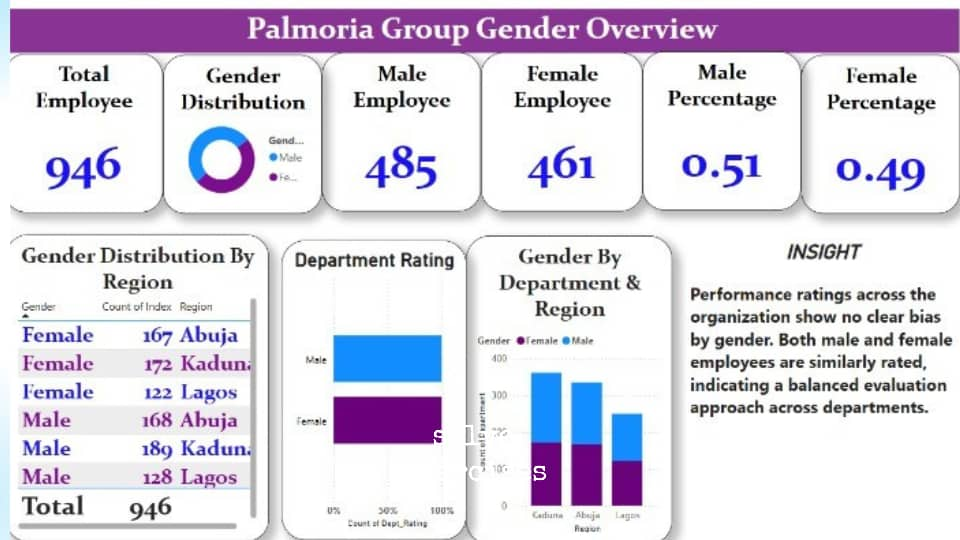

The dashboard page shown, as its layout file describes it:
{"tool":"powerbi","page":{"name":"Gender Overview","canvas":[1280,720],"ordinal":0},"visuals":[{"type":"columnChart","title":"Gender  By Department & Region","fields":{"Category":["Palmoria Employee Overview.Region"],"Series":["Palmoria Employee Overview.Gender"],"Y":["Palmoria Employee Overview.Department"]},"box":[621.6,305.9,260.8,390.2],"z":0},{"type":"textbox","title":"Palmoria Group Gender Overview","box":[36.5,18.2,1209.1,56.7],"z":1000},{"type":"card","title":"Total Employee","fields":{"Values":["Palmoria.Total Employee"]},"box":[37.7,75.5,200.5,200.5],"z":2000},{"type":"card","title":"Male Employee","fields":{"Values":["Palmoria.Measure 2"]},"box":[439.5,74.9,200.5,200.5],"z":3000},{"type":"card","title":"Female Percentage","fields":{"Values":["Palmoria.Female%"]},"box":[1044.4,77.4,200.5,200.5],"z":4000},{"type":"card","title":"Female Employee","fields":{"Values":["Palmoria.Female Emplloyee"]},"box":[640,74.9,204.6,200.5],"z":5000},{"type":"card","title":"Male Percentage","fields":{"Values":["Palmoria.Male%"]},"box":[843.9,73.5,200.5,200.5],"z":6000},{"type":"hundredPercentStackedBarChart","title":"Department Rating","fields":{"Category":["Palmoria Employee Overview.Gender"],"Y":["Palmoria Employee Overview.Dept_Rating"]},"box":[388.2,311.8,233.3,378.4],"z":7000},{"type":"tableEx","title":"Gender Distribution By Region","fields":{"Values":["Palmoria Employee Overview.Gender","Palmoria Employee Overview.Index","Palmoria Employee Overview.Region"]},"box":[39.2,303.9,333.3,388.2],"z":8000},{"type":"donutChart","title":"Gender Distribution","fields":{"Category":["Palmoria Employee Overview.Gender"],"Y":["Palmoria Employee Overview.Name"]},"box":[239,77,200.5,200.5],"z":9000},{"type":"textbox","title":"INSIGHT","box":[900,311.8,345.1,386.3],"z":10000}]}

Visuals, with their boxes in screenshot pixels (x1, y1, x2, y2), scaled from the page's 1280x720 canvas onto the 960x540 screenshot:
"Gender  By Department & Region" columnChart: BBox(466, 229, 662, 522)
"Palmoria Group Gender Overview" textbox: BBox(27, 14, 934, 56)
"Total Employee" card: BBox(28, 57, 179, 207)
"Male Employee" card: BBox(330, 56, 480, 207)
"Female Percentage" card: BBox(783, 58, 934, 208)
"Female Employee" card: BBox(480, 56, 633, 207)
"Male Percentage" card: BBox(633, 55, 783, 206)
"Department Rating" hundredPercentStackedBarChart: BBox(291, 234, 466, 518)
"Gender Distribution By Region" tableEx: BBox(29, 228, 279, 519)
"Gender Distribution" donutChart: BBox(179, 58, 330, 208)
"INSIGHT" textbox: BBox(675, 234, 934, 524)
